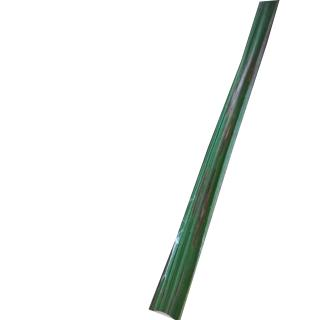Hawar-Daun: (193, 31, 259, 253)
